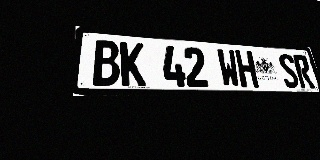2: (183, 46, 208, 87)
4: (161, 45, 187, 87)
B: (93, 40, 120, 86)
H: (235, 50, 259, 87)
K: (120, 42, 146, 86)
R: (292, 54, 315, 88)
S: (277, 53, 300, 88)
W: (216, 49, 241, 87)
